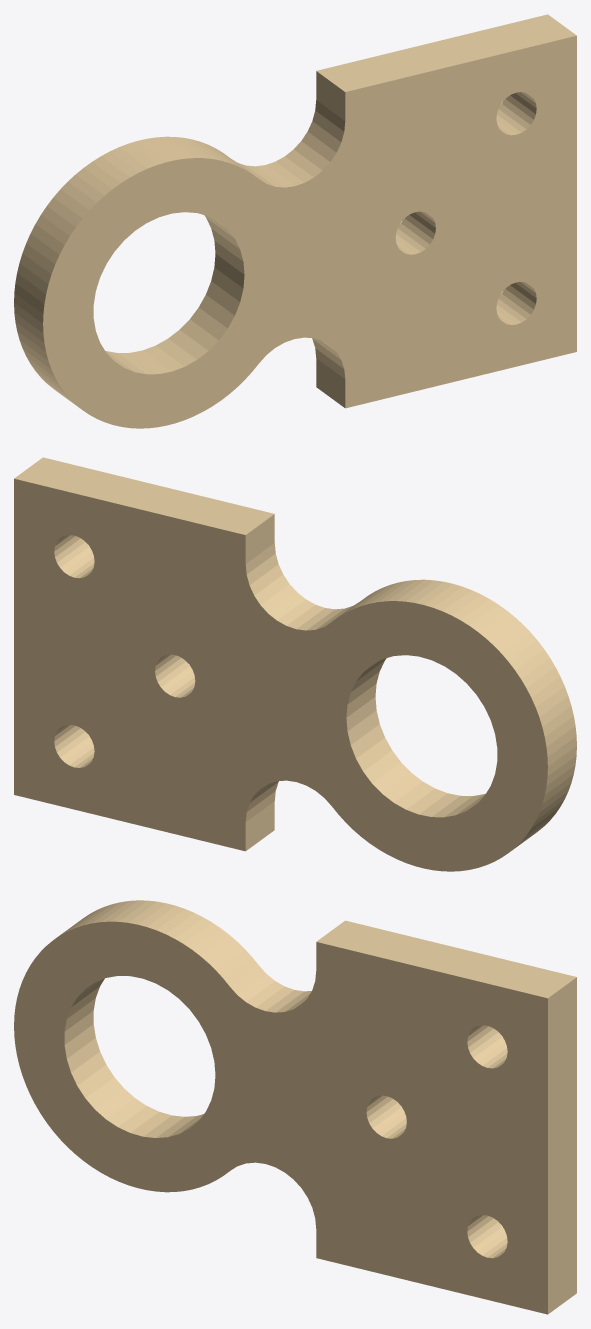
The model's file is quloq.glb.
3 renders of one model, top to bottom at view 1: azimuth 30°, elevation 25°; view 2: azimuth 150°, elevation 25°; view 3: azimuth 330°, elevation 25°, orthographic.
Visible parts, largest first — view 1: Chelak qulogi; view 2: Chelak qulogi; view 3: Chelak qulogi.
Part boxes in pixels (<box>): Chelak qulogi: <box>14,14,576,428</box>; Chelak qulogi: <box>14,457,576,871</box>; Chelak qulogi: <box>14,900,576,1314</box>.
Bounding box in the file's own units: 0.106 × 0.06 × 0.01.
